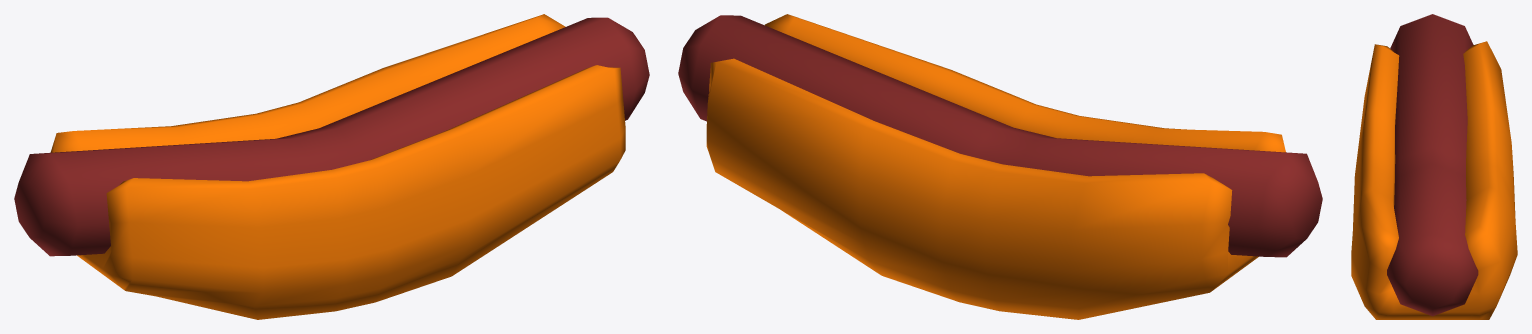
The model's file is hotDog1.fbx.
3 renders of one model, left to right at view 1: azimuth 30°, elevation 25°; view 2: azimuth 150°, elevation 25°; view 3: azimuth 270°, elevation 25°, orthographic. The views are drawn at different scales.
Visible parts, largest first — view 1: mHotDogBread, mHotDogSosidge; view 2: mHotDogBread, mHotDogSosidge; view 3: mHotDogBread, mHotDogSosidge.
Part boxes in pixels (<box>): mHotDogBread: <box>50,14,625,319</box>; mHotDogSosidge: <box>14,17,649,256</box>; mHotDogBread: <box>706,14,1285,319</box>; mHotDogSosidge: <box>678,15,1322,257</box>; mHotDogBread: <box>1351,41,1517,319</box>; mHotDogSosidge: <box>1387,14,1478,316</box>.
Size of the model in its own units: 173 by 52.2 by 51.19.
Materials: 1 (1 with a texture image).
